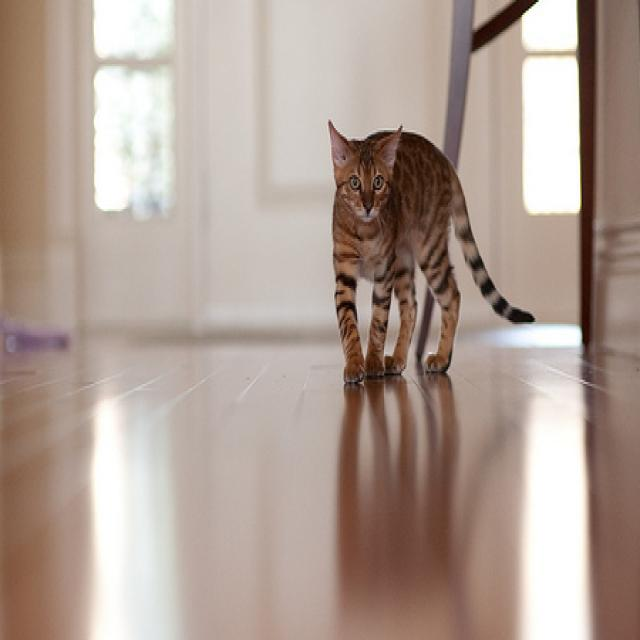Bengal: (317, 109, 546, 407)
